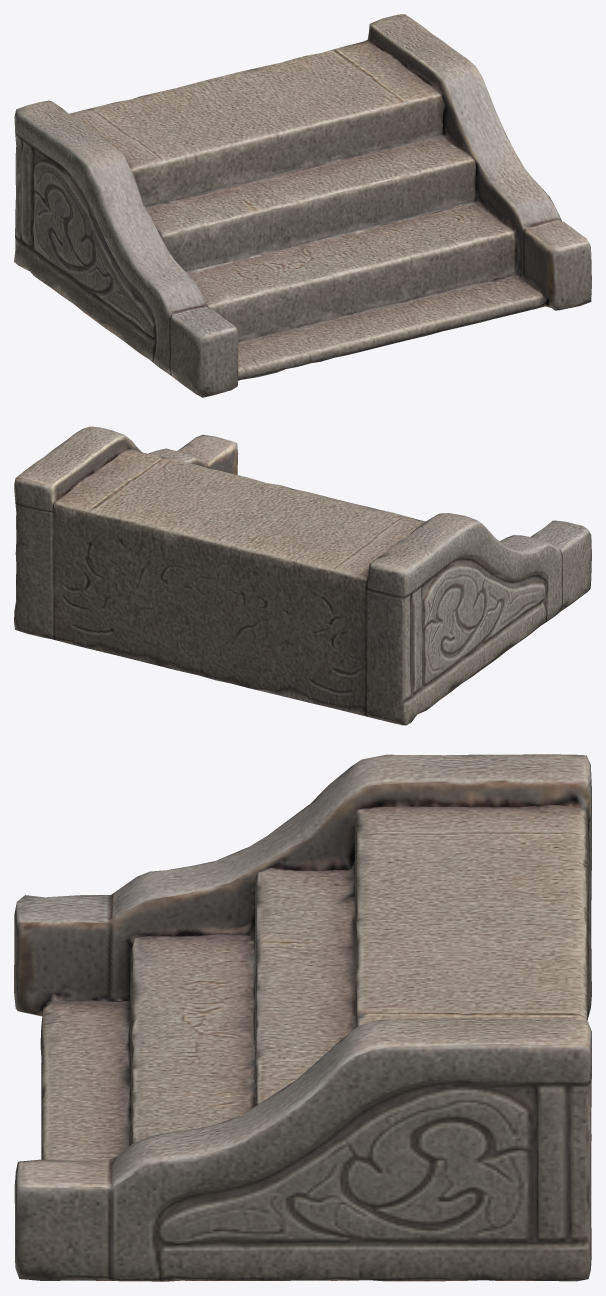
File: 경복궁_돌계단.glb
3 views of the same model, one above another, from view 1: azimuth 30°, elevation 25°; view 2: azimuth 150°, elevation 25°; view 3: azimuth 270°, elevation 25° (orthographic). The views are drawn at different scales.
Parts seen in each view (by area): view 1: texture_mapping; view 2: texture_mapping; view 3: texture_mapping.
Boxes of the visible parts, left/top/right/bottom form: texture_mapping: left=14, top=14, right=591, bottom=397; texture_mapping: left=14, top=426, right=591, bottom=725; texture_mapping: left=14, top=754, right=591, bottom=1281.
Size of the model in its own units: 0.9995 by 0.3784 by 0.8265.
Materials: 1 (1 with a texture image).
